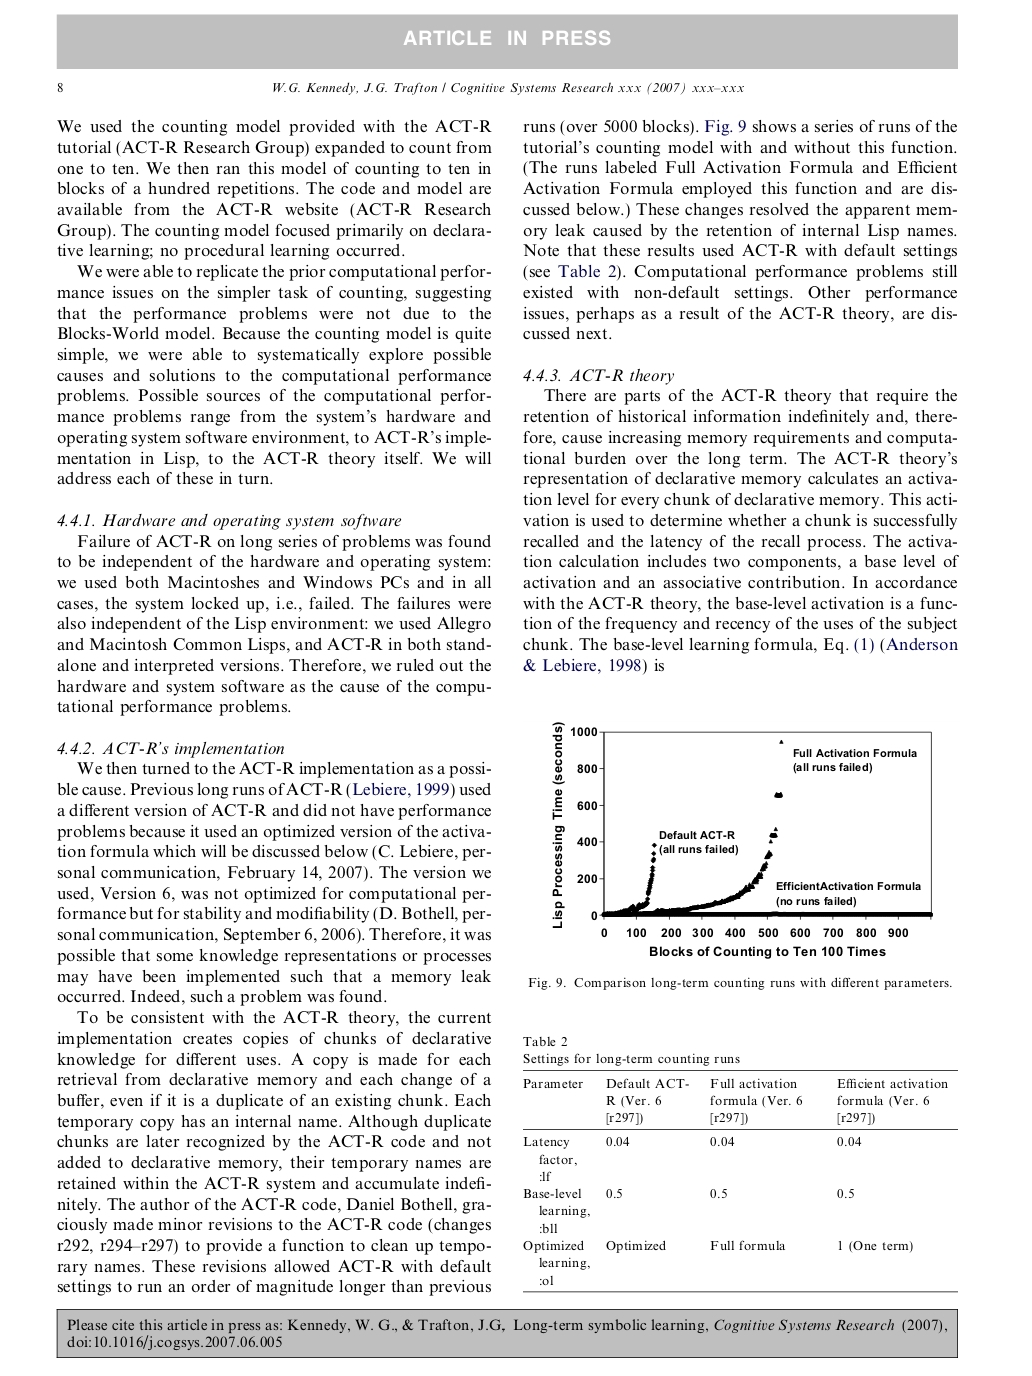Table: (523, 1070, 957, 1291)
figure: (552, 722, 932, 958), (56, 13, 957, 69), (56, 1308, 957, 1358)
